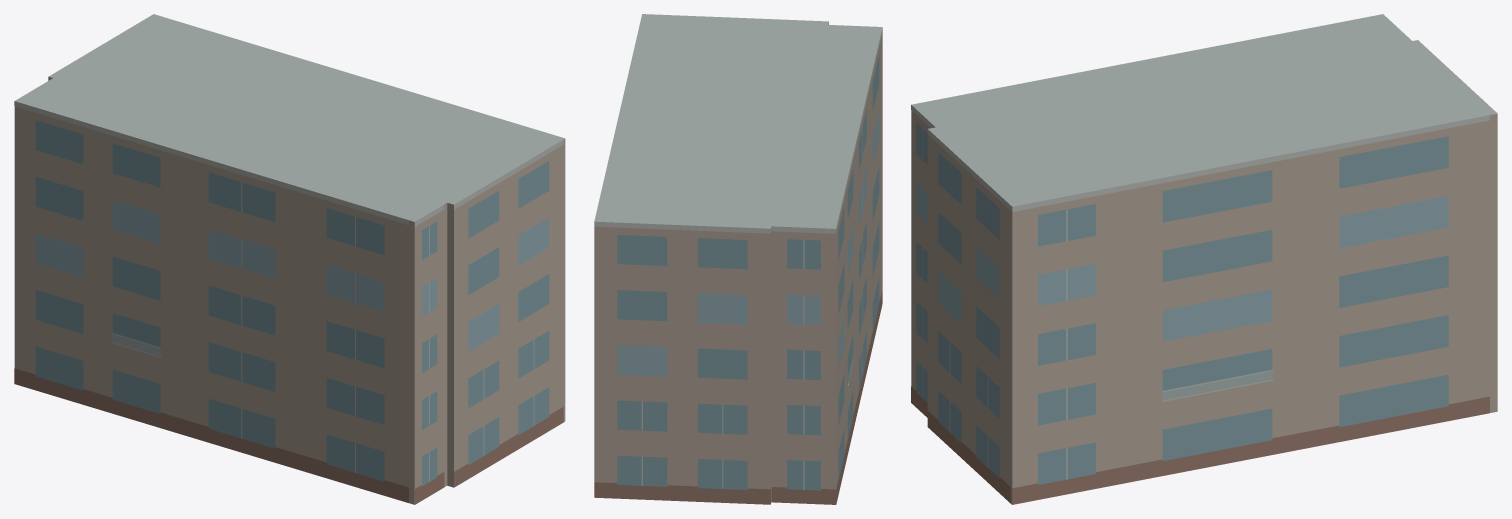
The model's file is survey-upis-32926365.glb.
3 renders of one model, left to right at view 1: azimuth 30°, elevation 25°; view 2: azimuth 150°, elevation 25°; view 3: azimuth 270°, elevation 25°, orthographic. The views are drawn at different scales.
Parts seen in each view (by area): view 1: survey-upis-32926365.tmp; view 2: survey-upis-32926365.tmp; view 3: survey-upis-32926365.tmp.
Boxes of the visible parts, x1,y1,x2,y2 form: survey-upis-32926365.tmp: (14, 14, 565, 504); survey-upis-32926365.tmp: (594, 14, 882, 504); survey-upis-32926365.tmp: (911, 14, 1497, 504).
Bounding box in the file's own units: 18.8 × 13.55 × 24.18.
